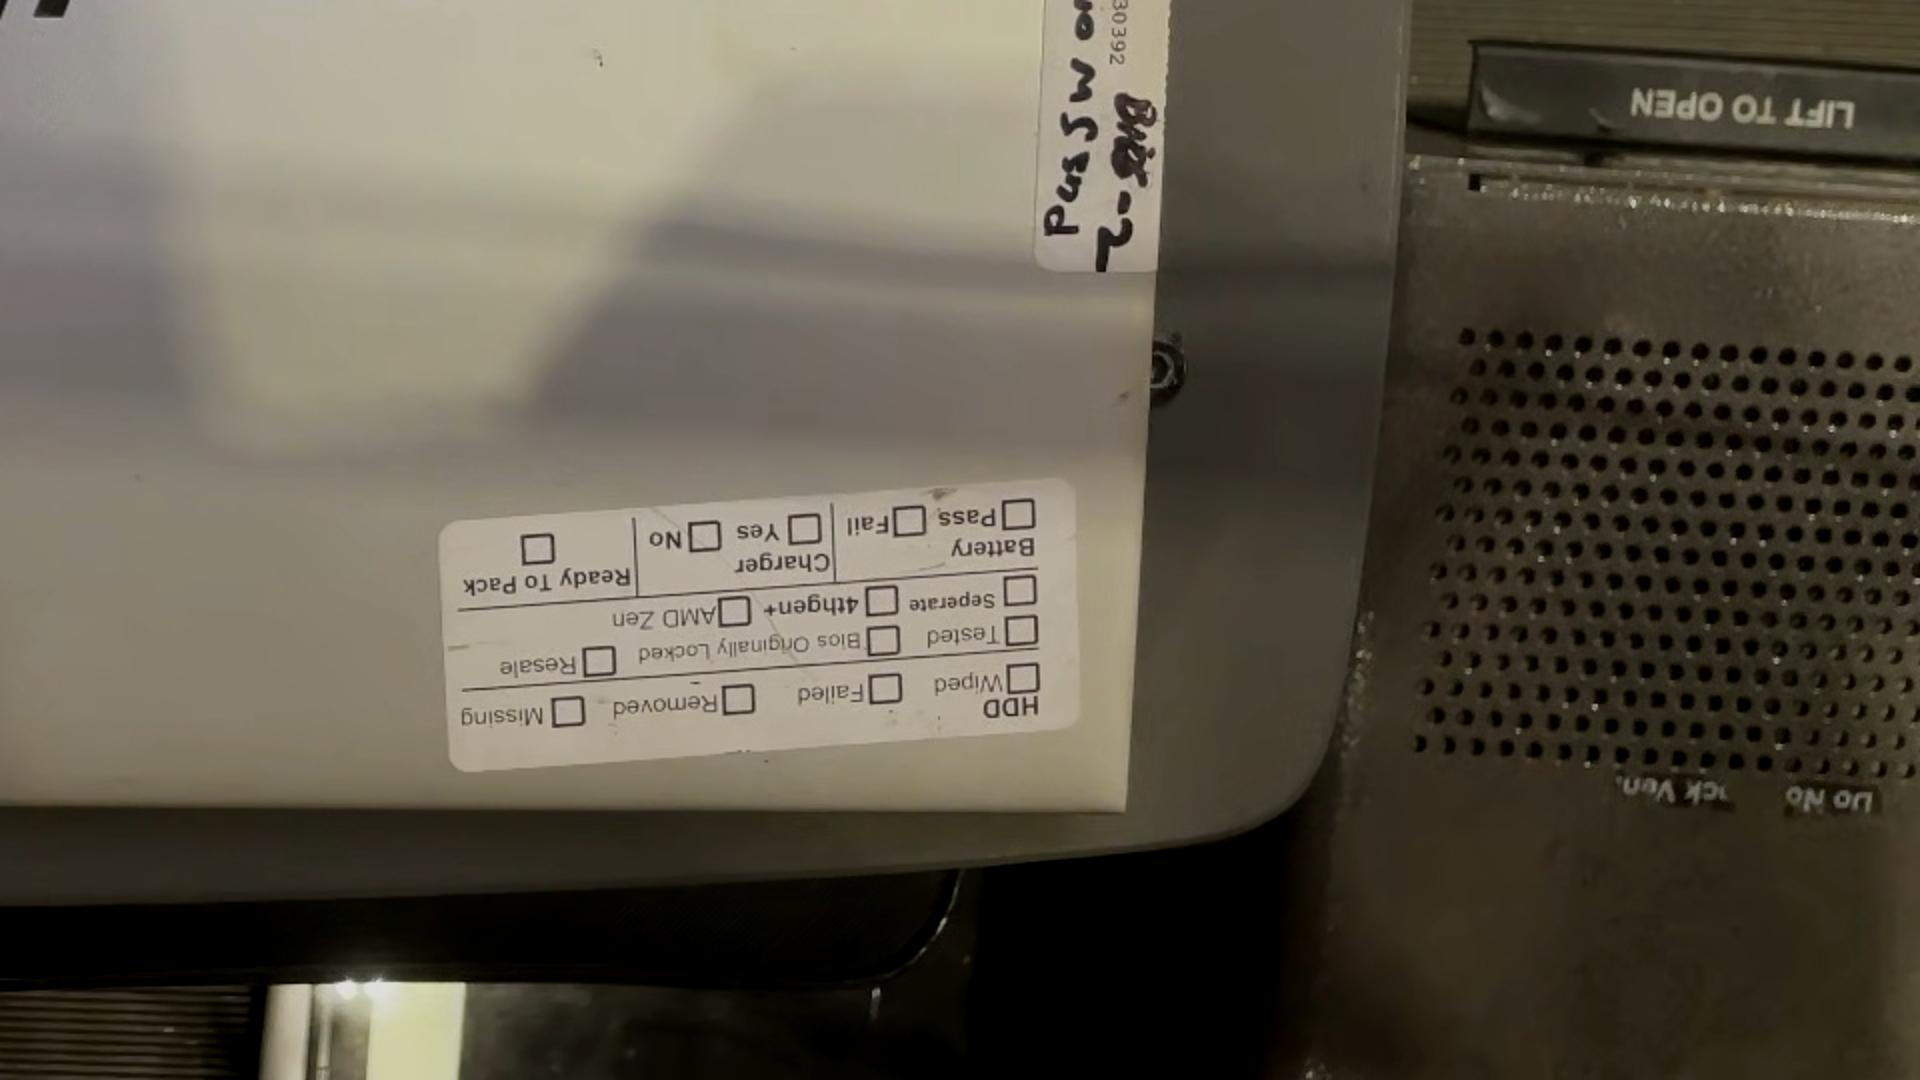chip: (591, 45, 610, 72)
